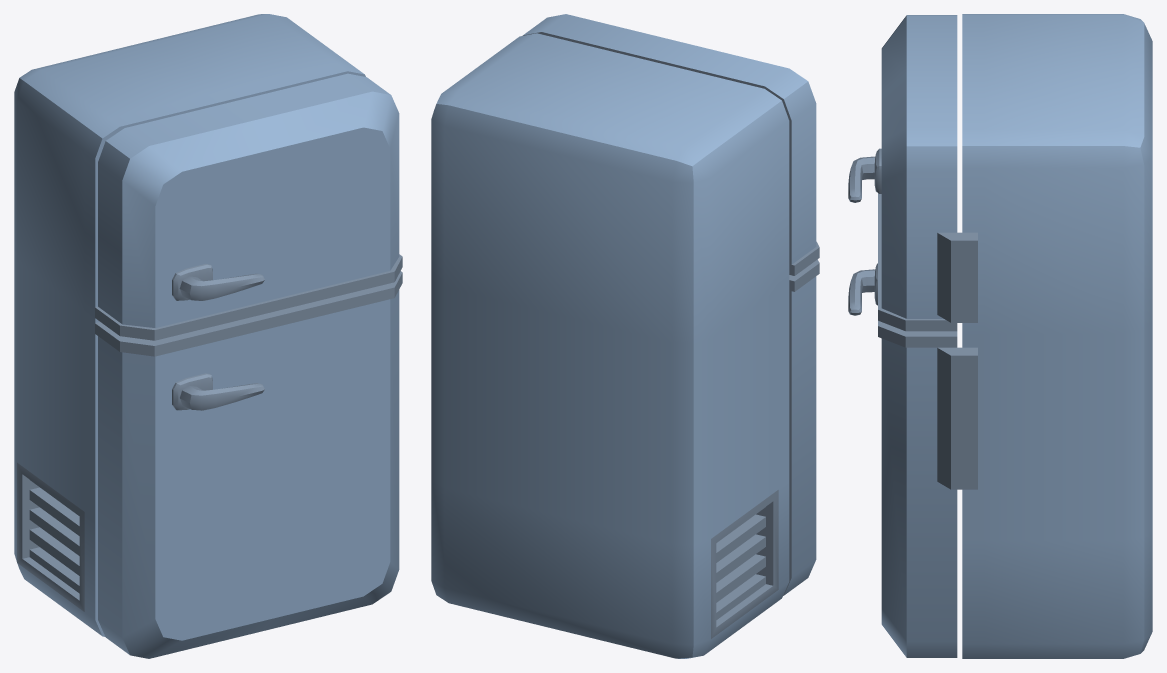
File: Environment_Fridge.fbx
3 views of the same model, side by side, from view 1: azimuth 30°, elevation 25°; view 2: azimuth 150°, elevation 25°; view 3: azimuth 270°, elevation 25° (orthographic). The views are drawn at different scales.
Parts seen in each view (by area): view 1: Environment_Fridge_Door, Environment_Fridge; view 2: Environment_Fridge, Environment_Fridge_Door; view 3: Environment_Fridge, Environment_Fridge_Door.
Boxes of the visible parts, x1=… form: Environment_Fridge_Door: x1=95, y1=73, x2=402, y2=658; Environment_Fridge: x1=14, y1=14, x2=365, y2=636; Environment_Fridge: x1=431, y1=33, x2=789, y2=658; Environment_Fridge_Door: x1=522, y1=14, x2=819, y2=595; Environment_Fridge: x1=937, y1=14, x2=1152, y2=658; Environment_Fridge_Door: x1=848, y1=15, x2=957, y2=657.
Bounding box in the file's own units: 252 × 418 × 218.
